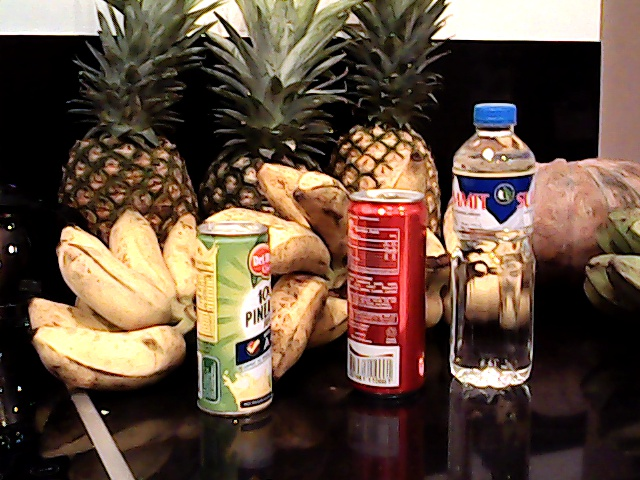Cola: (340, 178, 435, 396)
Pine Juice: (185, 213, 287, 422)
Summit Water: (447, 94, 542, 405)
